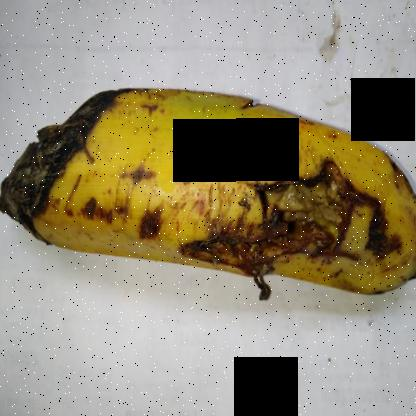ripe: (99, 61, 415, 315)
rotten: (1, 64, 140, 274), (182, 142, 393, 280)
